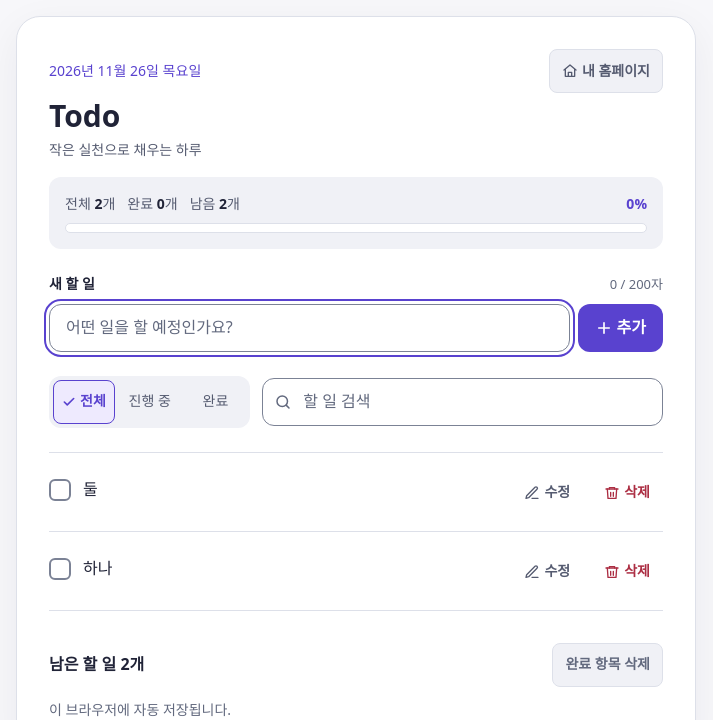
Test: TodoList 앱 통합 테스트 › 개별 삭제 후 실행 취소로 원래 위치에 복원하고, 연속 삭제 시 최신 1건만 복원한다
Earlier steps of the test are not shown.
Type "셋" into the field labelled "새 할 일" at (309, 328), box [49, 304, 570, 352]
Then press Enter
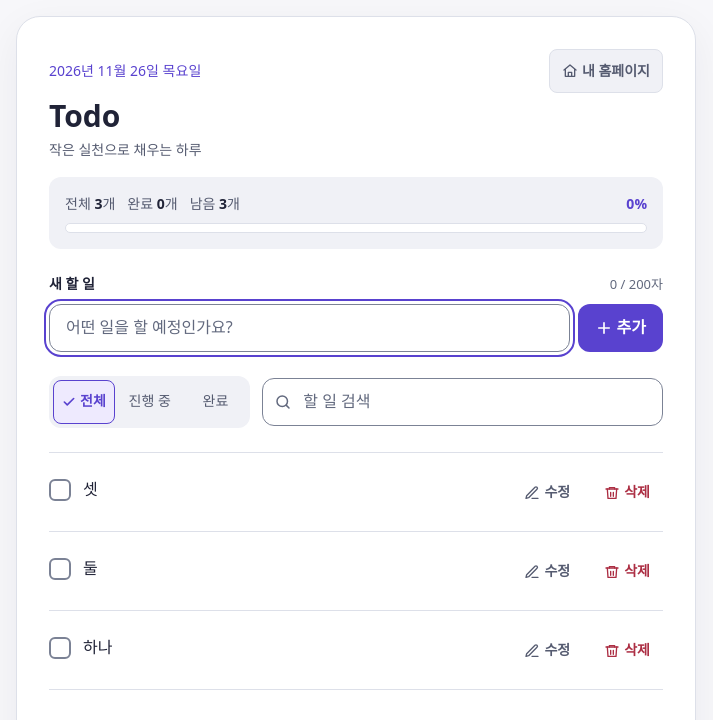
Click the button with aria-label "둘 삭제" at (627, 572), box [591, 550, 663, 594]
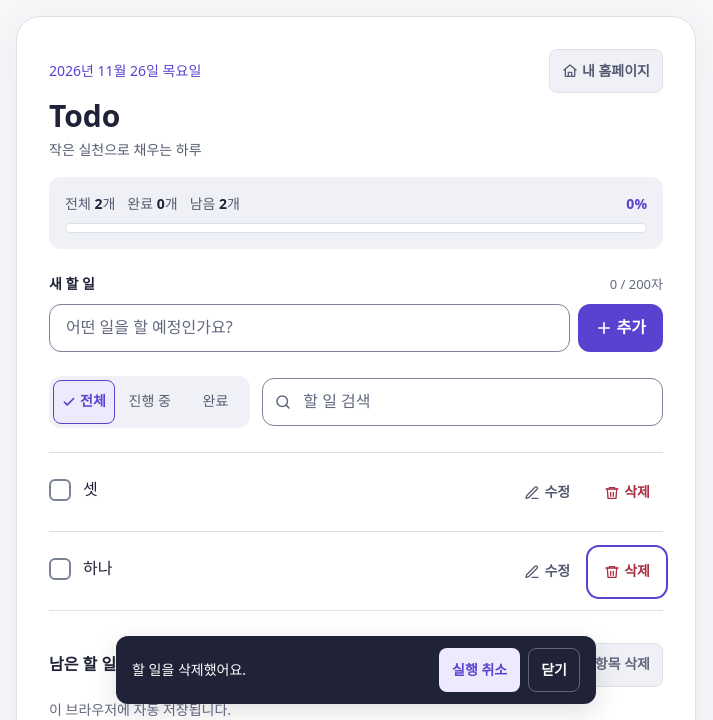
Expected: the text "둘" is gone
Expected: the text "할 일을 삭제했어요." is shown, [132, 659, 246, 681]
Click the button "실행 취소" at (480, 670), box [439, 648, 520, 692]
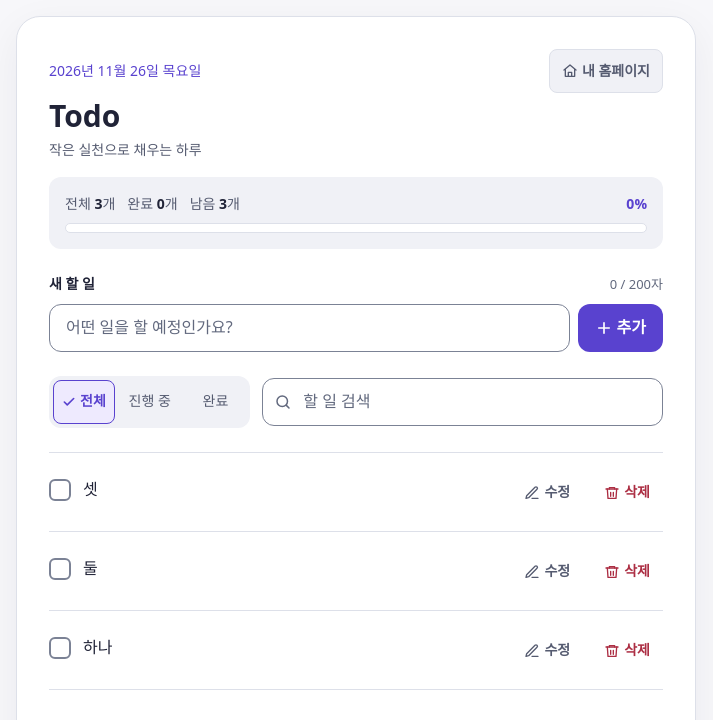
Expected: the text "셋" is shown, [83, 478, 98, 500]
Expected: the text "하나" is shown, [83, 636, 112, 658]
Expected: the text "둘" is shown, [83, 557, 98, 579]
Click the button with aria-label "셋 삭제" at (627, 493), box [591, 471, 663, 515]
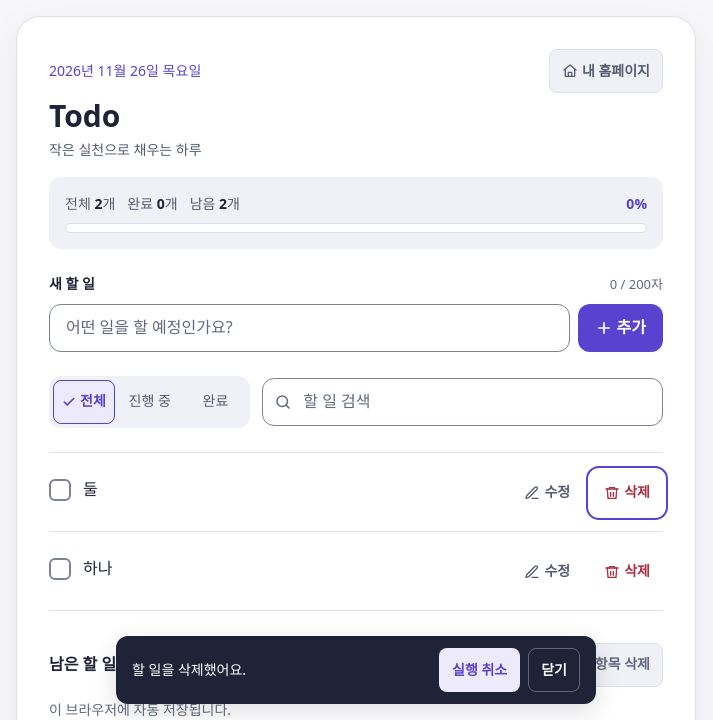
Click the button with aria-label "둘 삭제" at (627, 493), box [591, 471, 663, 515]
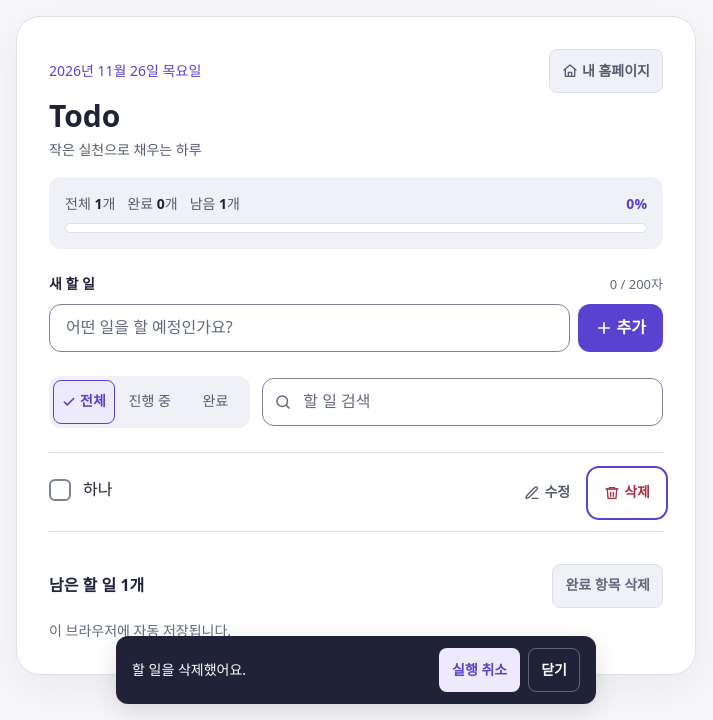
Click the button "실행 취소" at (480, 670), box [439, 648, 520, 692]
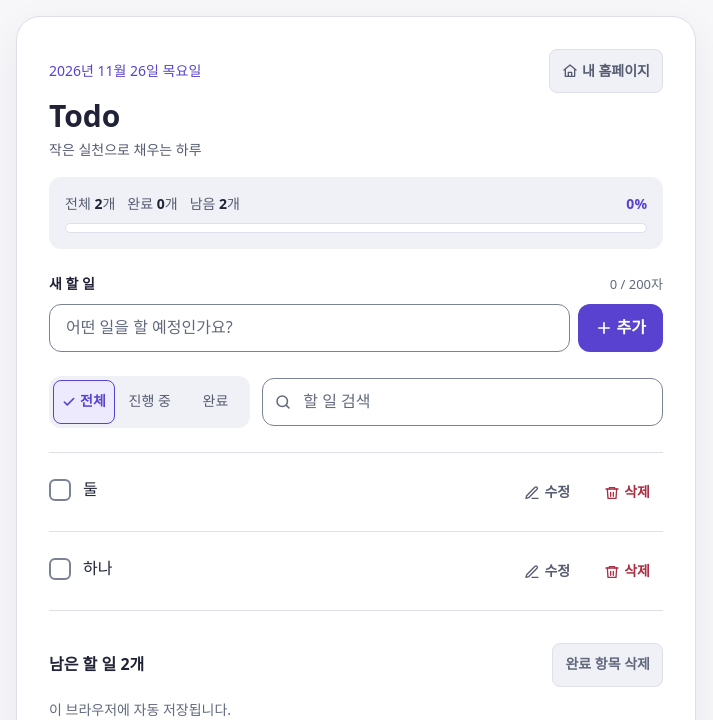
Expected: the text "셋" is not shown
Expected: the text "둘" is shown, [83, 478, 98, 500]
